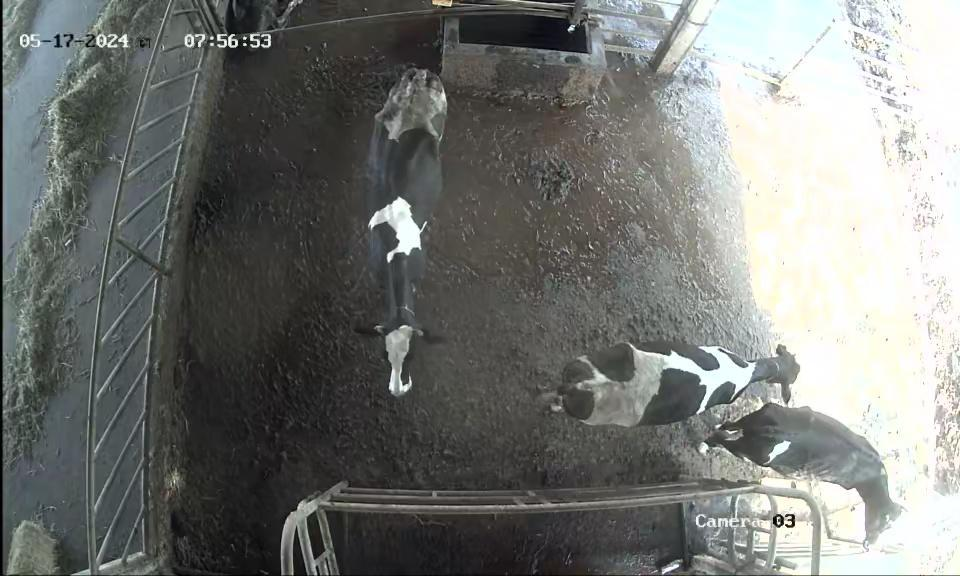stand: (344, 63, 462, 402), (535, 302, 804, 433), (715, 395, 904, 548)
